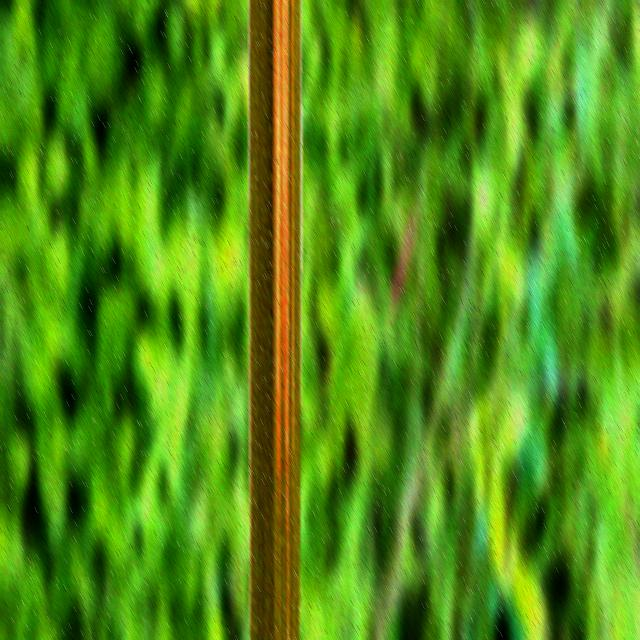BLS: (281, 0, 289, 637), (273, 0, 281, 549), (291, 0, 294, 457)
